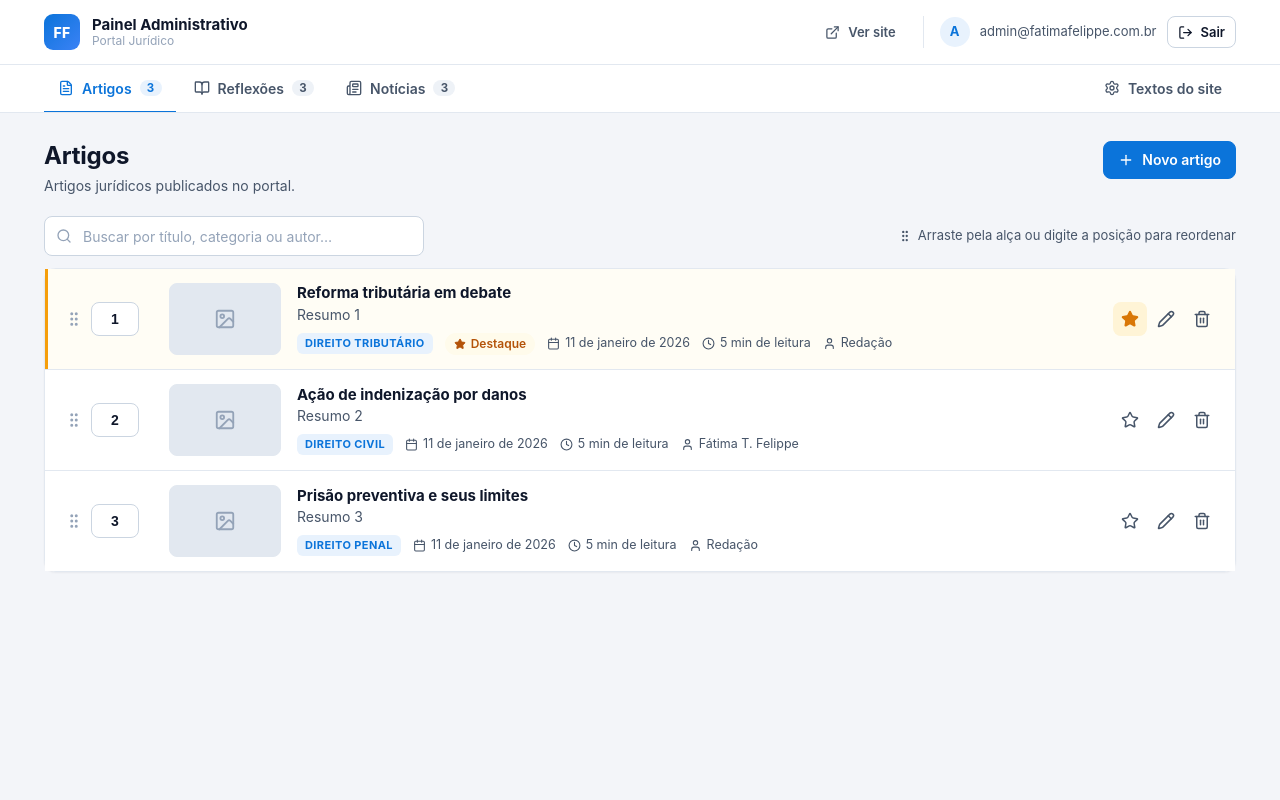
Scenario: AdminPage › destaque › remover o destaque grava só aquele item
Check: the heading "Reforma tributária em debate" is shown, box [297,283,511,302]
Check: the text "admin@fatimafelippe.com.br" is shown, box [980,22,1156,42]
Click the button named "Remover destaque de \"Reforma tributária em debate\"".
click(1130, 319)  # box [1113,302,1147,336]
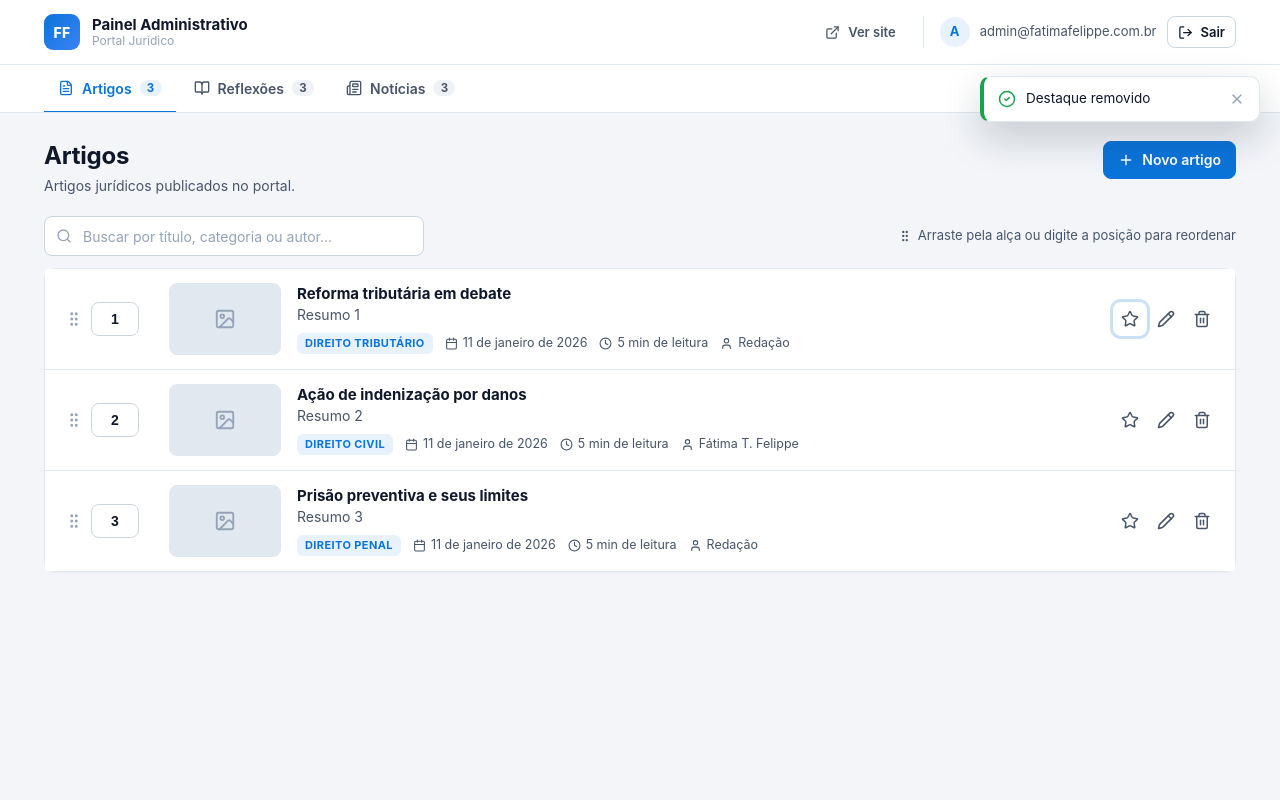
Check: the text "Destaque removido" is shown, box [1026,90,1150,106]
